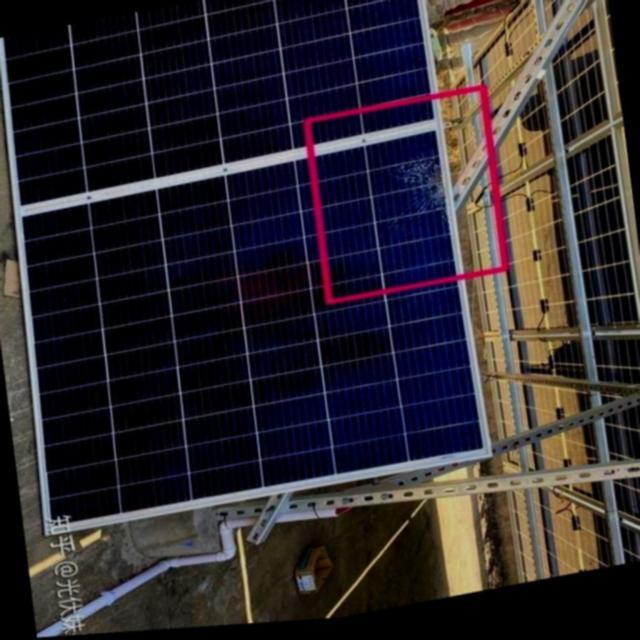cracked: (368, 141, 454, 240)
